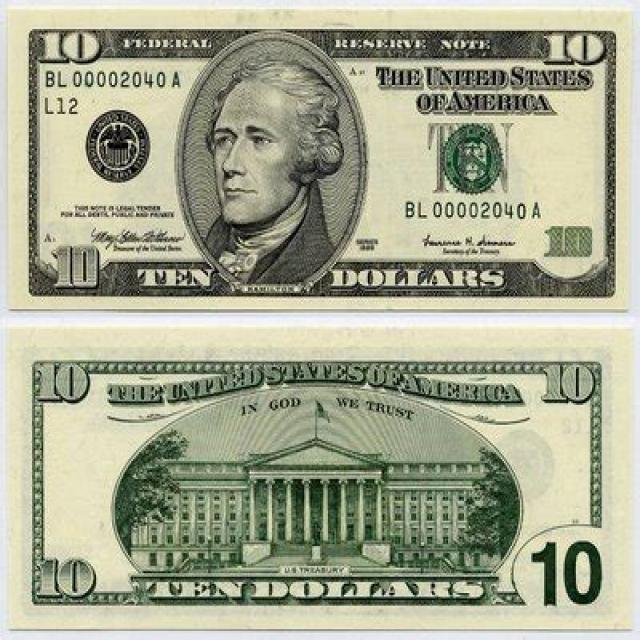Ten: (5, 325, 632, 627), (5, 9, 628, 312)
